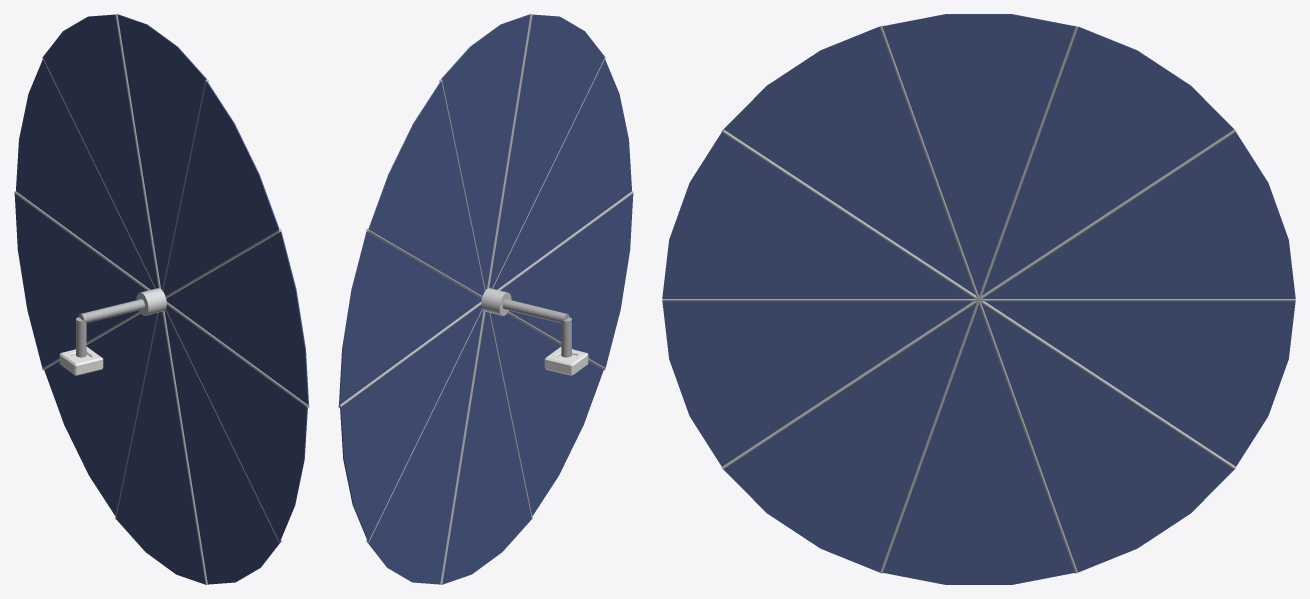
The model's file is ax_power_03_fan_array_m_deployed.glb.
3 views of the same model, side by side, from view 1: azimuth 30°, elevation 25°; view 2: azimuth 150°, elevation 25°; view 3: azimuth 270°, elevation 25° (orthographic). The views are drawn at different scales.
Visible parts, largest first — view 1: petal_9, petal_1, petal_7, petal_3, petal_10, petal_8, petal_2, petal_6, petal_5, petal_4, spars, yoke (+2 smaller); view 2: petal_7, petal_5, petal_9, petal_3, petal_6, petal_8, petal_4, petal_10, petal_1, petal_2, spars, yoke (+2 smaller); view 3: petal_8, petal_2, petal_4, petal_10, petal_6, petal_7, petal_9, petal_3, petal_1, petal_5, spars.
Boxes of the visible parts, x1=… form: petal_9: x1=163, y1=81, x2=279, y2=295; petal_1: x1=166, y1=305, x2=307, y2=541; petal_7: x1=43, y1=14, x2=158, y2=288; petal_3: x1=116, y1=312, x2=205, y2=584; petal_10: x1=166, y1=231, x2=308, y2=404; petal_8: x1=117, y1=14, x2=206, y2=289; petal_2: x1=164, y1=310, x2=280, y2=584; petal_6: x1=16, y1=59, x2=154, y2=289; petal_5: x1=14, y1=194, x2=146, y2=367; petal_4: x1=44, y1=313, x2=157, y2=515; spars: x1=14, y1=14, x2=309, y2=584; yoke: x1=76, y1=299, x2=144, y2=357; petal_7: x1=368, y1=81, x2=484, y2=295; petal_5: x1=340, y1=305, x2=481, y2=541; petal_9: x1=489, y1=14, x2=604, y2=288; petal_3: x1=442, y1=312, x2=531, y2=584; petal_6: x1=339, y1=231, x2=481, y2=404; petal_8: x1=441, y1=14, x2=530, y2=289; petal_4: x1=367, y1=310, x2=483, y2=584; petal_10: x1=493, y1=59, x2=631, y2=289; petal_1: x1=501, y1=194, x2=633, y2=367; petal_2: x1=490, y1=313, x2=603, y2=515; spars: x1=338, y1=14, x2=633, y2=584; yoke: x1=503, y1=299, x2=571, y2=357; petal_8: x1=882, y1=14, x2=1075, y2=295; petal_2: x1=724, y1=303, x2=976, y2=572; petal_4: x1=981, y1=303, x2=1233, y2=572; petal_10: x1=662, y1=132, x2=974, y2=298; petal_6: x1=983, y1=132, x2=1295, y2=298; petal_7: x1=982, y1=27, x2=1234, y2=294; petal_9: x1=723, y1=27, x2=975, y2=294; petal_3: x1=883, y1=305, x2=1074, y2=584; petal_1: x1=662, y1=301, x2=972, y2=466; petal_5: x1=985, y1=301, x2=1295, y2=466; spars: x1=662, y1=25, x2=1295, y2=573.
Size of the model in its own units: 0.837 by 4.38 by 4.4.
